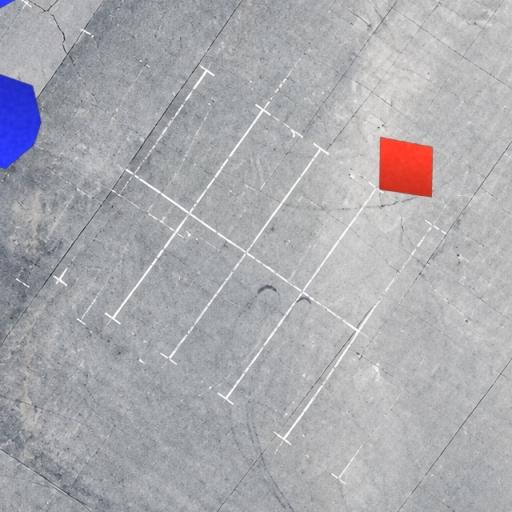RED_SQUARE: (378, 136, 434, 198)
